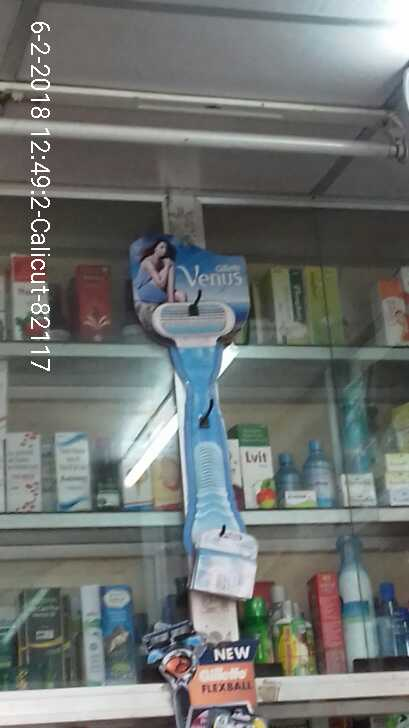reject: (196, 195, 278, 267)
